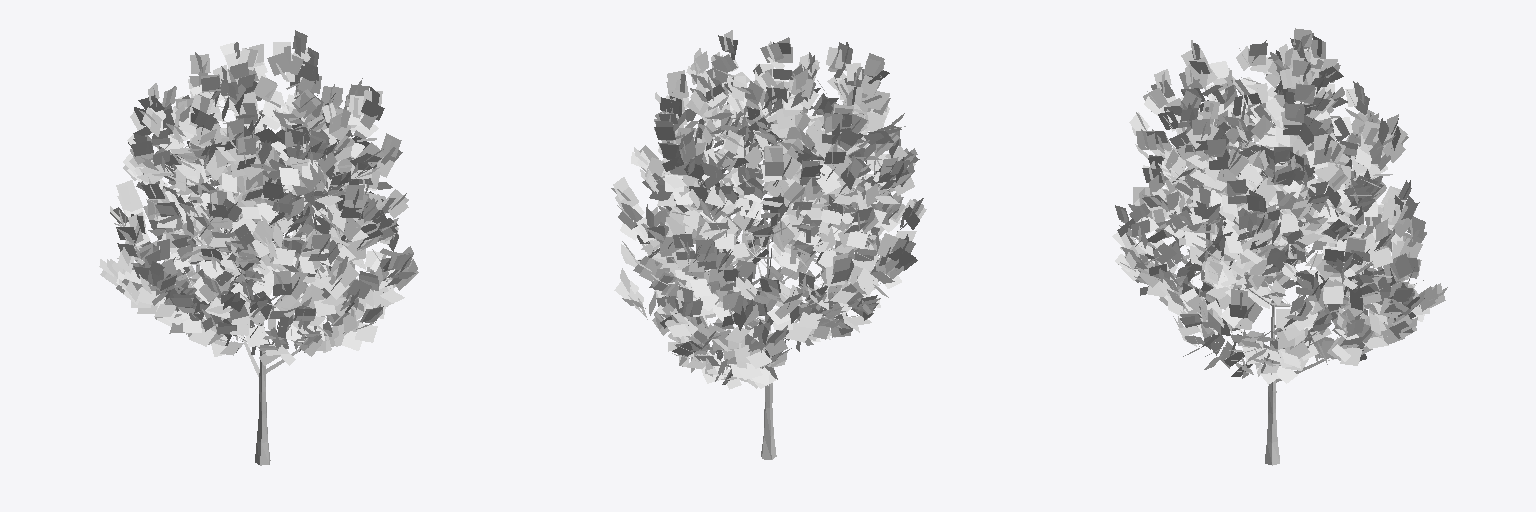
The model's file is tree1.obj.
3 views of the same model, side by side, from view 1: azimuth 30°, elevation 25°; view 2: azimuth 150°, elevation 25°; view 3: azimuth 270°, elevation 25° (orthographic).
Parts seen in each view (by area): view 1: trunk; view 2: trunk; view 3: trunk.
Part boxes in pixels (bbox=[...]): trunk: bbox=[255, 257, 270, 465]; trunk: bbox=[761, 240, 776, 459]; trunk: bbox=[1265, 281, 1279, 465].
Size of the model in its own units: 239 by 325 by 242.